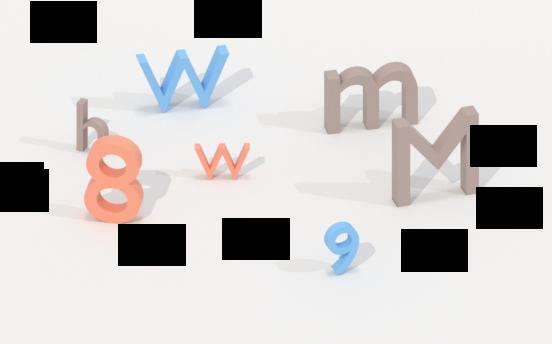8: (82, 131, 147, 225)
9: (321, 218, 361, 277)
M-hoa: (386, 99, 485, 212)
h: (74, 94, 111, 154)
m: (321, 61, 421, 136)
w: (130, 39, 236, 115), (191, 135, 252, 185)
